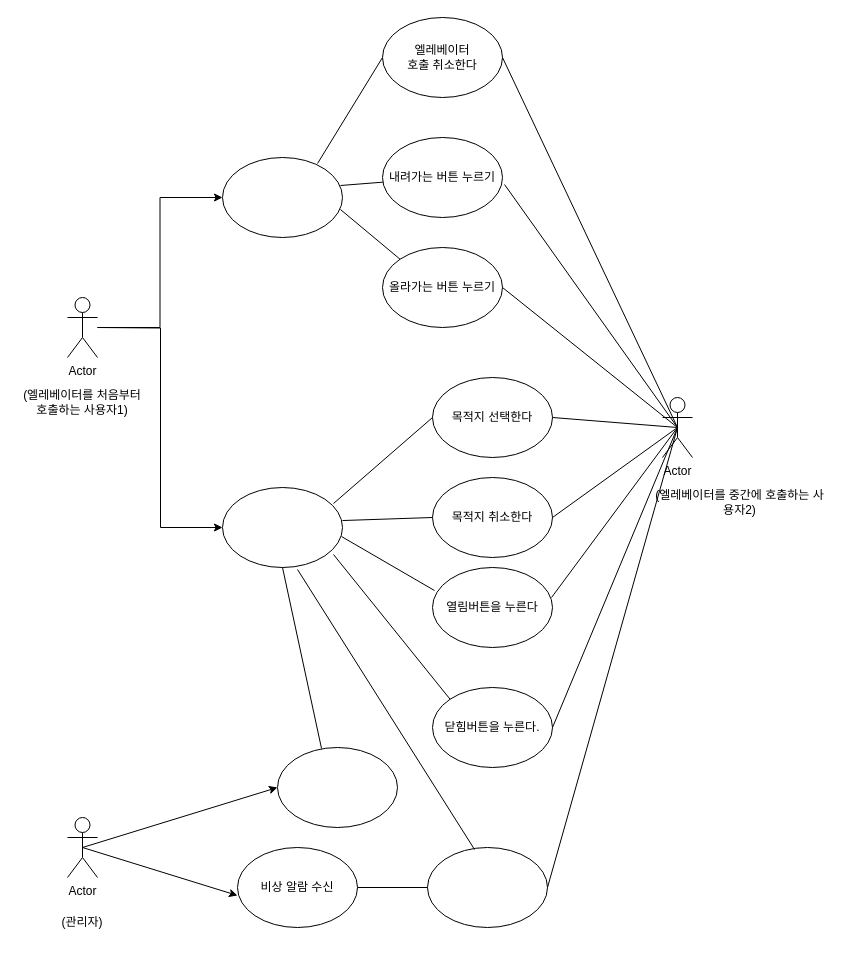
This 844x955 diagram has some shape labels left out. Each missing label, with the box of its shape:
비상 버튼으로 비상 알람 보낸다: (426, 846, 548, 928)
비상 알림 취소: (276, 746, 398, 828)
엘레베이터 밖: (222, 156, 342, 238)
엘레베이터 안: (222, 486, 342, 568)
